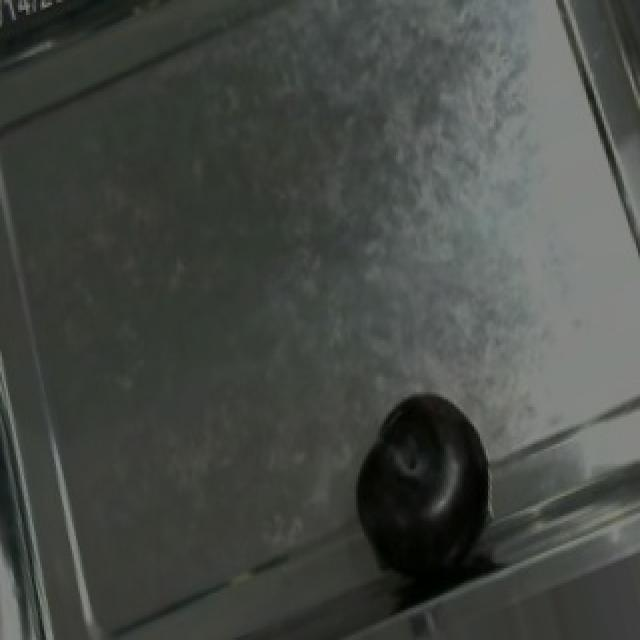Fruit: (332, 374, 516, 588)
